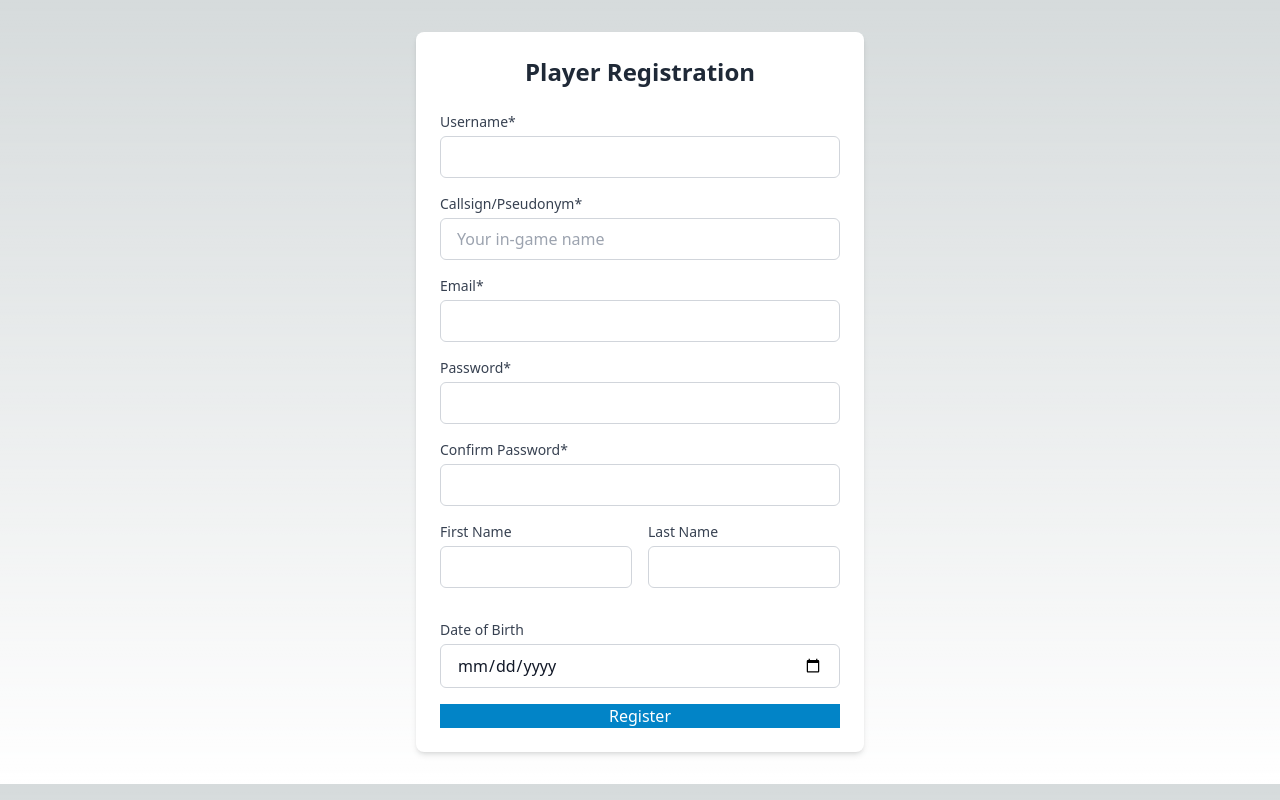
it: PlayerRegistration › displays loading state while submitting the form
// Fill out the form
Step 1. Type "testuser" into the field with test id "username-input" → (640, 157), box [440,136,840,178]
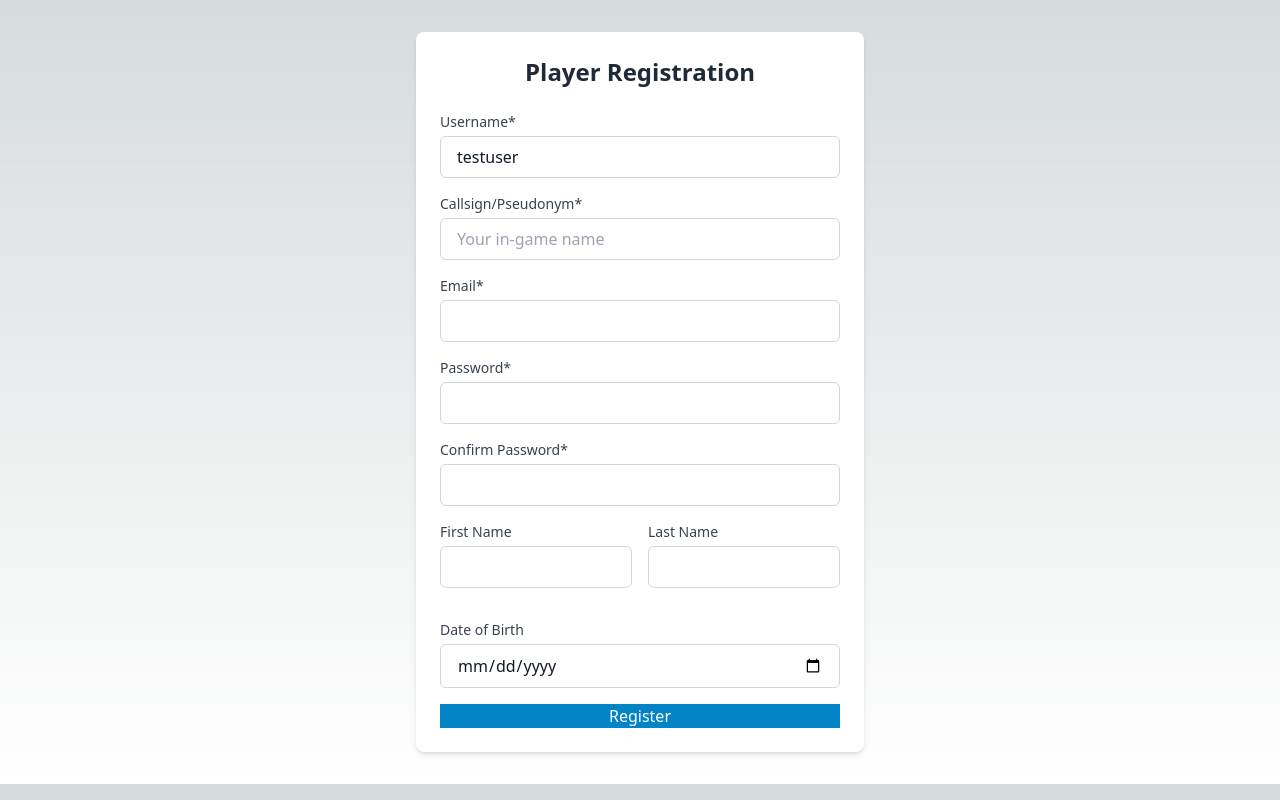
Step 2. Type "TestPlayer" into the field with test id "callsign-input" → (640, 239), box [440,218,840,260]
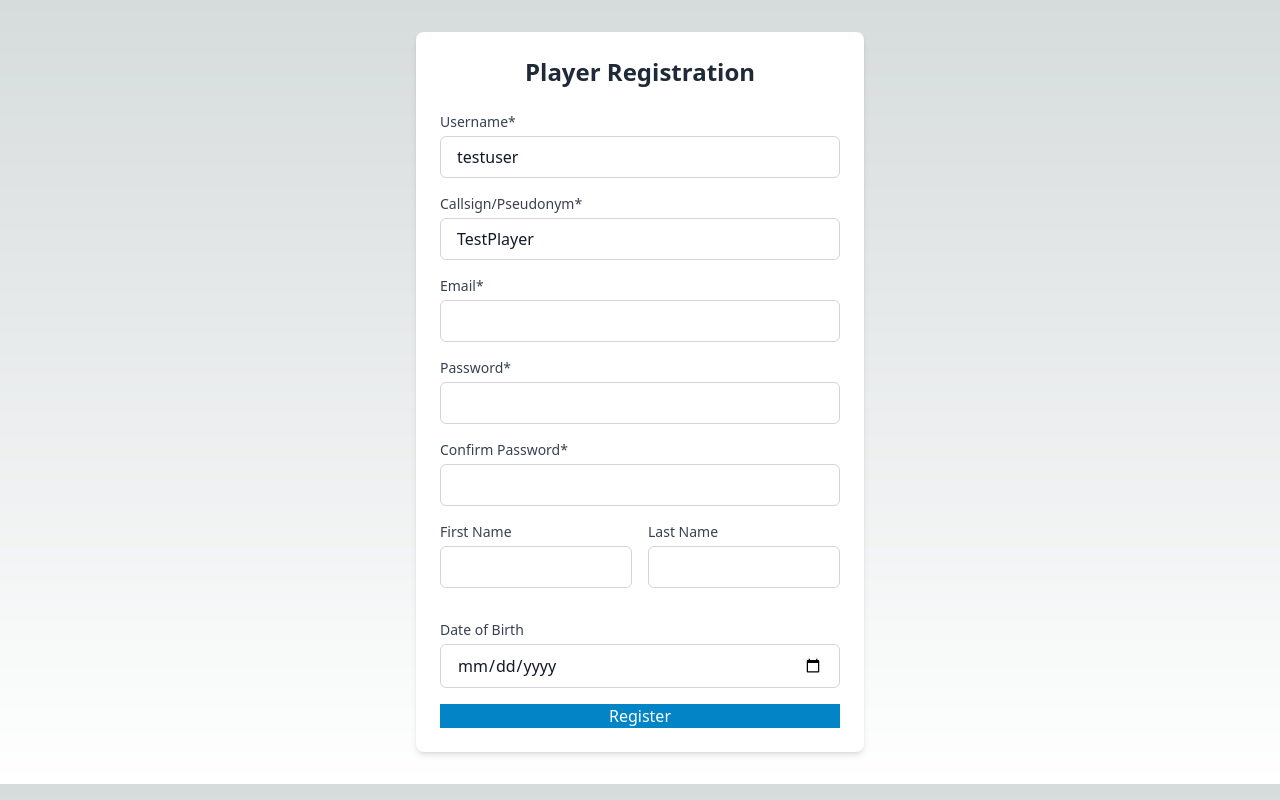
Step 3. Type "test@example.com" into the field with test id "email-input" → (640, 321), box [440,300,840,342]
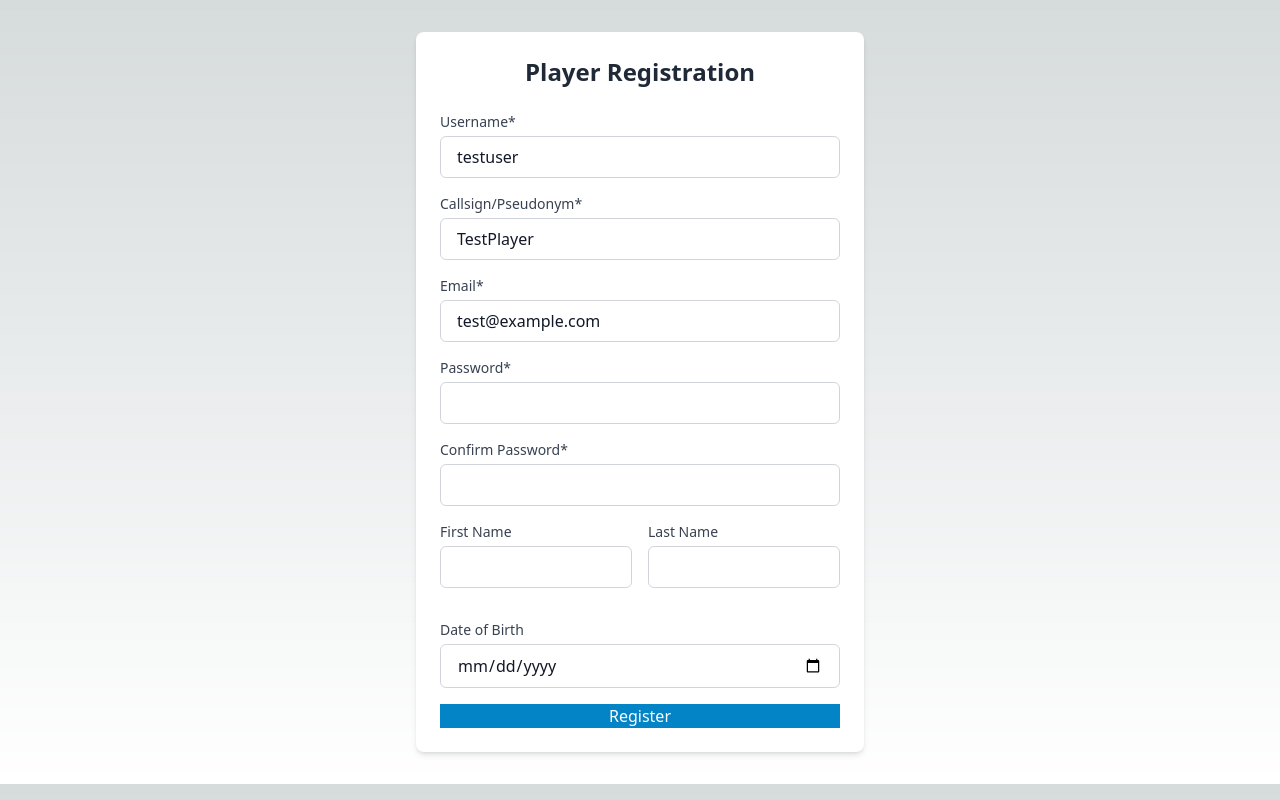
Step 4. Type "Password123!" into the password field with test id "password-input" → (640, 403), box [440,382,840,424]
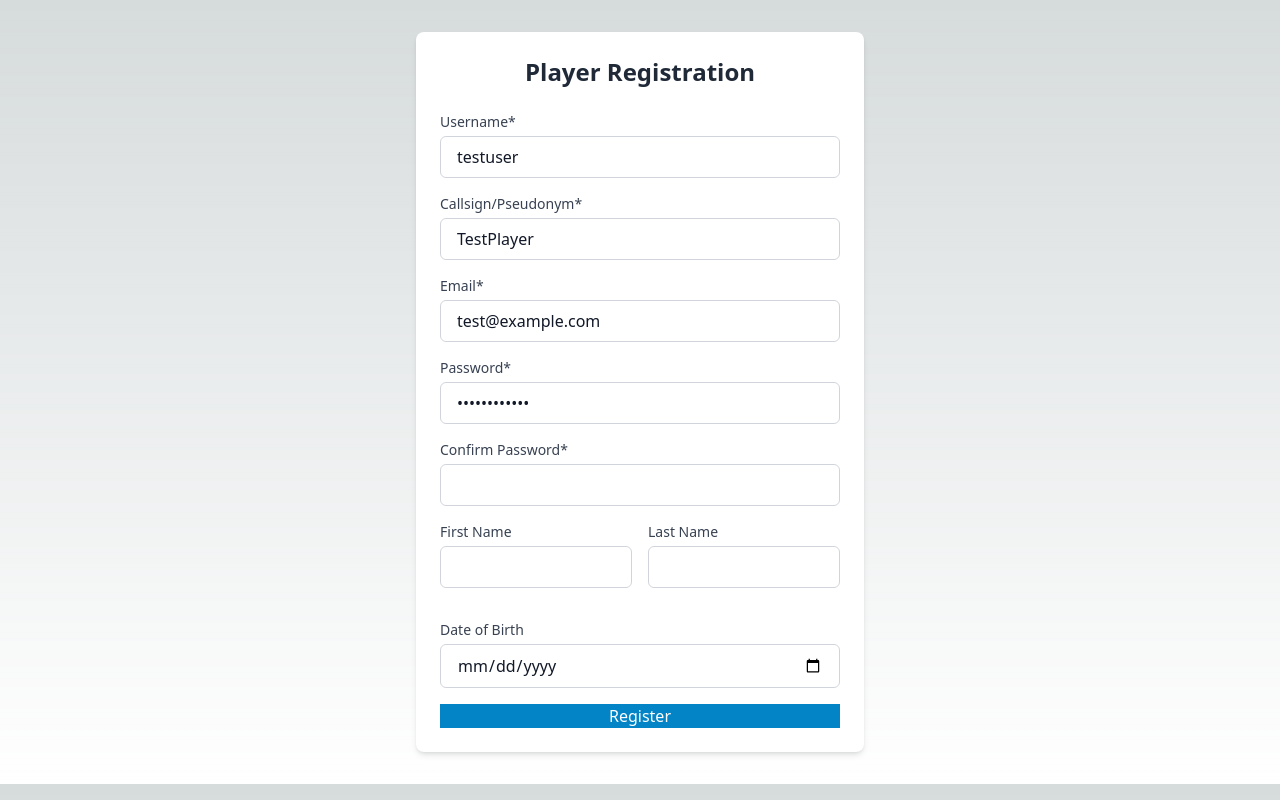
Step 5. Type "Password123!" into the password field with test id "confirm-password-input" → (640, 485), box [440,464,840,506]
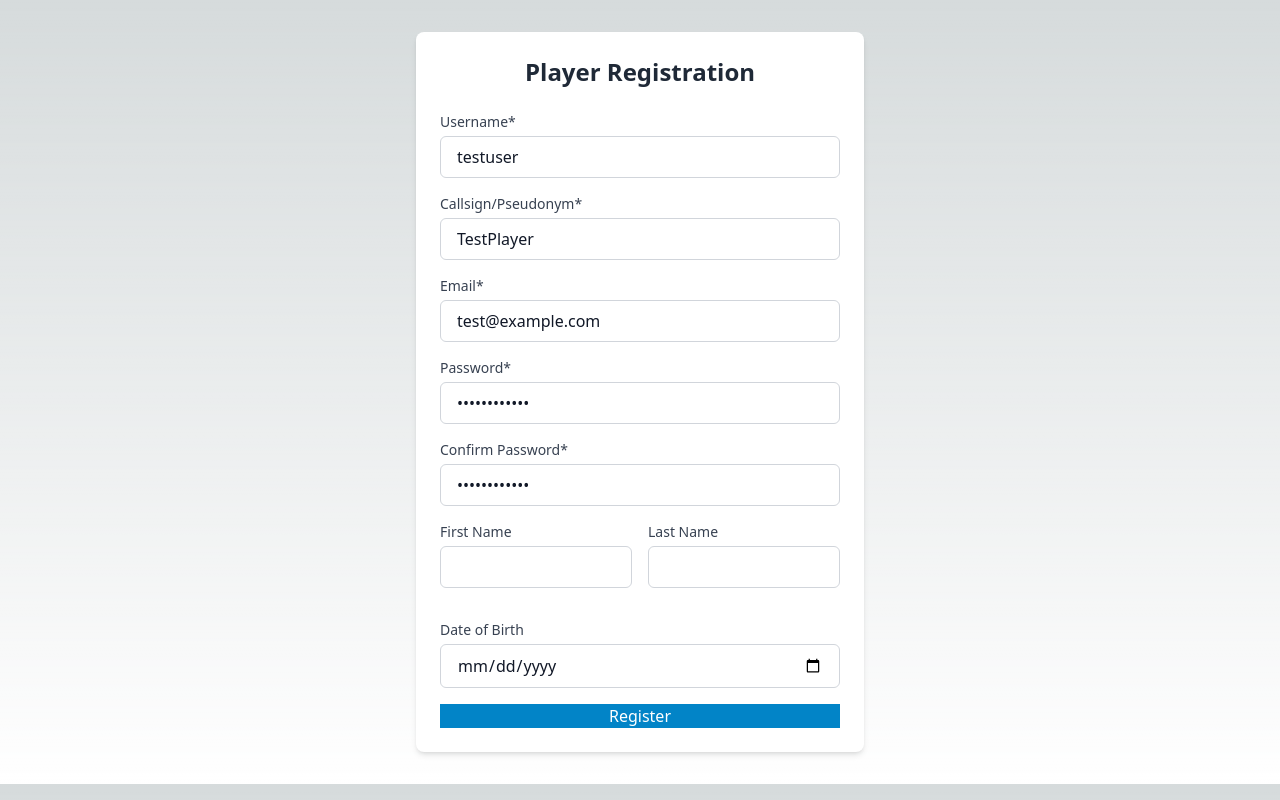
// Submit the form
Step 6. Click the button with test id "register-button" → (640, 716), box [440,704,840,728]
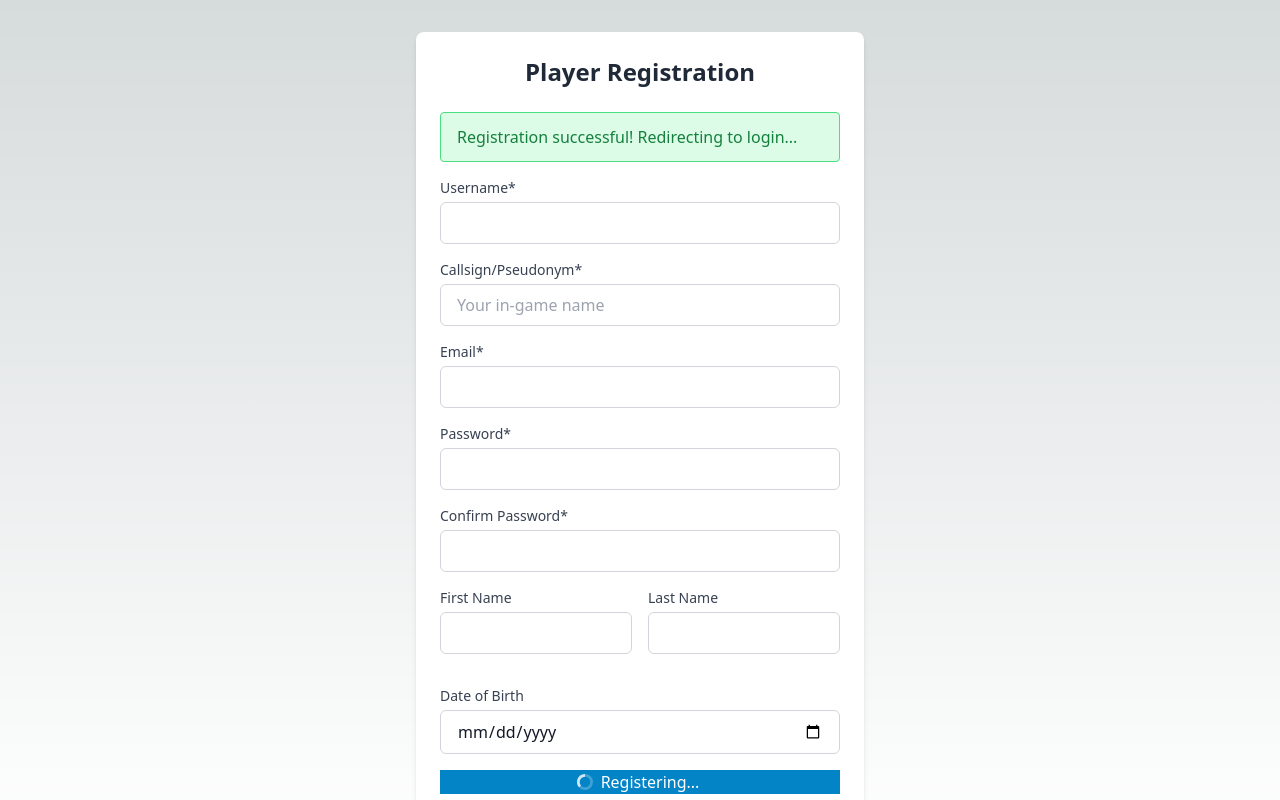
Expected: the text "Registering..." is shown, [577,771,699,793]
Expected: the text "Registration successful! Redirecting to login..." is shown, [440,112,840,162]
Expected: the text with test id "success-message" reads "Registration successful! Redirecting to login...", [457,126,797,148]
